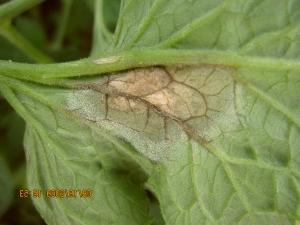Tomato leaf late blight: (8, 4, 299, 224)
